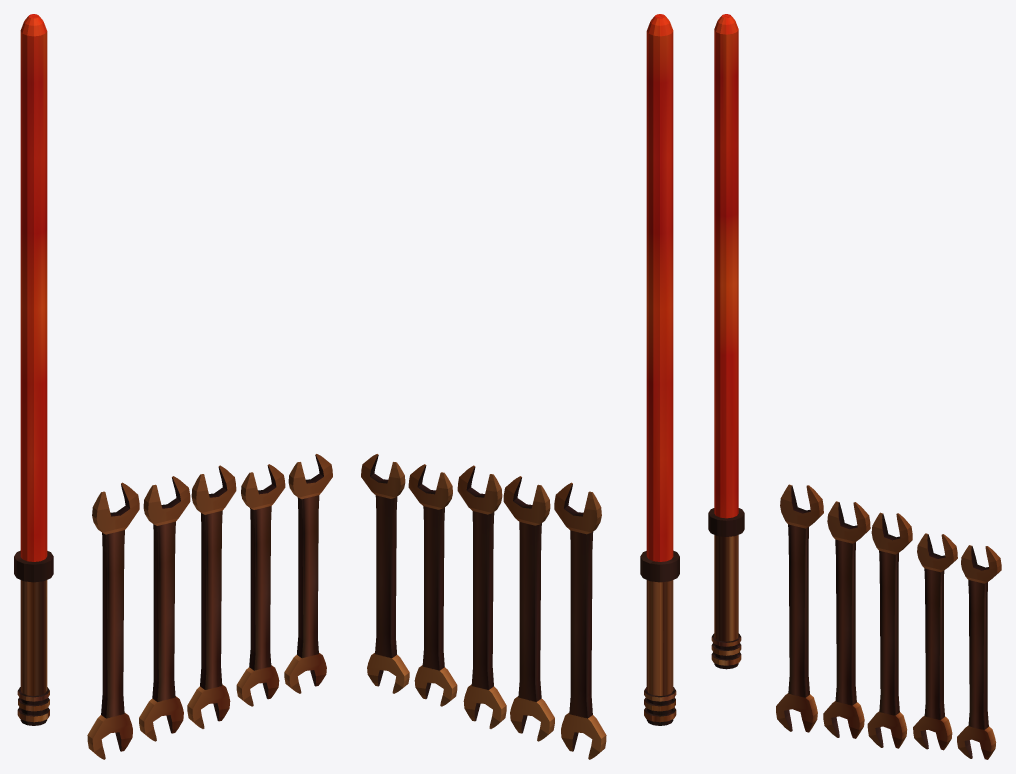
Rendered from wrench.glb.
3 views of the same model, side by side, from view 1: azimuth 30°, elevation 25°; view 2: azimuth 150°, elevation 25°; view 3: azimuth 330°, elevation 25° (orthographic). The views are drawn at different scales.
Visible parts, largest first — view 1: Light, Wrench24-27mm, Wrench20-21mm, Wrench19-22mm, Wrench16-18mm, Wrench14-17mm, Cylinder; view 2: Light, Wrench24-27mm, Wrench20-21mm, Wrench19-22mm, Wrench16-18mm, Wrench14-17mm, Cylinder; view 3: Light, Wrench24-27mm, Wrench20-21mm, Wrench19-22mm, Wrench16-18mm, Wrench14-17mm, Cylinder.
Boxes of the visible parts, left/top/right/bottom form: Light: left=20, top=14, right=47, bottom=561; Wrench24-27mm: left=87, top=482, right=139, bottom=759; Wrench20-21mm: left=139, top=476, right=190, bottom=741; Wrench19-22mm: left=187, top=465, right=236, bottom=728; Wrench16-18mm: left=236, top=464, right=285, bottom=706; Wrench14-17mm: left=284, top=454, right=332, bottom=693; Cylinder: left=14, top=550, right=53, bottom=725; Light: left=646, top=14, right=673, bottom=561; Wrench24-27mm: left=554, top=482, right=606, bottom=759; Wrench20-21mm: left=503, top=476, right=554, bottom=741; Wrench19-22mm: left=457, top=465, right=506, bottom=728; Wrench16-18mm: left=408, top=464, right=457, bottom=706; Wrench14-17mm: left=361, top=454, right=409, bottom=693; Cylinder: left=640, top=550, right=679, bottom=725; Light: left=714, top=14, right=738, bottom=518; Wrench24-27mm: left=776, top=484, right=823, bottom=732; Wrench20-21mm: left=823, top=501, right=870, bottom=738; Wrench19-22mm: left=867, top=512, right=912, bottom=748; Wrench16-18mm: left=913, top=533, right=957, bottom=750; Wrench14-17mm: left=957, top=545, right=1001, bottom=759; Cylinder: left=708, top=508, right=744, bottom=669.
Bounding box in the file's own units: 4.7 × 10.87 × 0.5136.
Materials: 1 (1 with a texture image).
